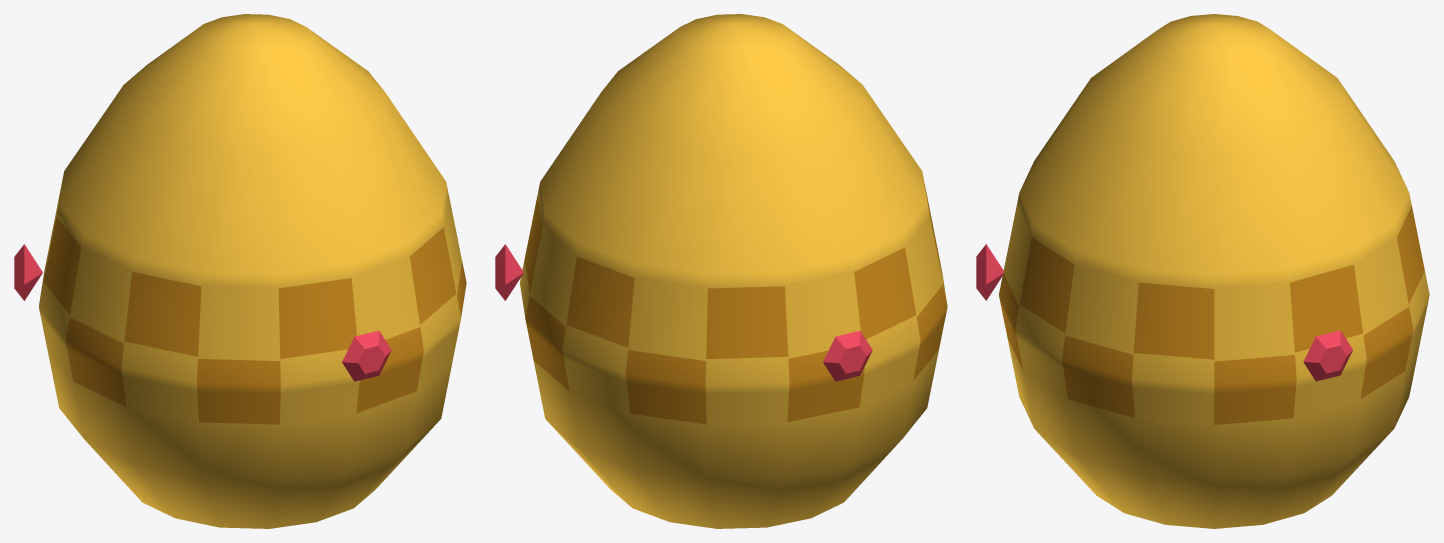
File: GoldenEgg.fbx
3 renders of one model, left to right at view 1: azimuth 30°, elevation 25°; view 2: azimuth 150°, elevation 25°; view 3: azimuth 270°, elevation 25°, orthographic.
Parts seen in each view (by area): view 1: GoldenEgg; view 2: GoldenEgg; view 3: GoldenEgg.
Part boxes in pixels (x1,y1,x2,y2): GoldenEgg: (14, 14, 466, 528); GoldenEgg: (495, 14, 947, 528); GoldenEgg: (976, 14, 1429, 528).
Size of the model in its own units: 2.1 by 2.5 by 2.21.
1 material, 1 textured.
